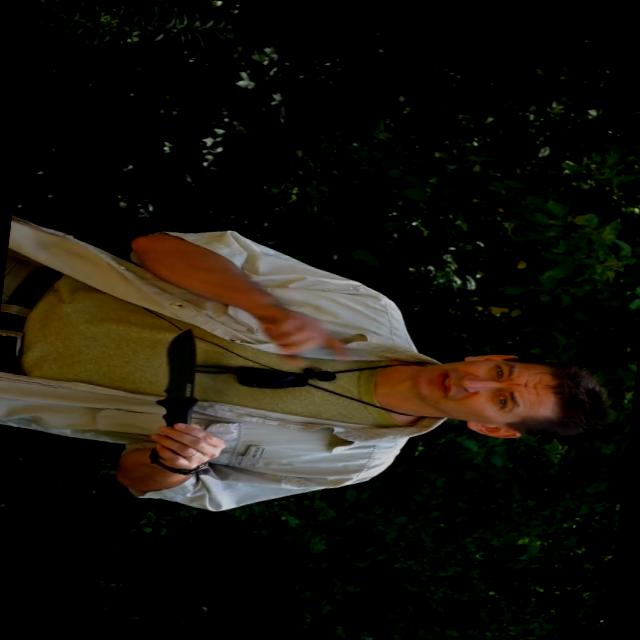knife: (144, 320, 242, 464)
